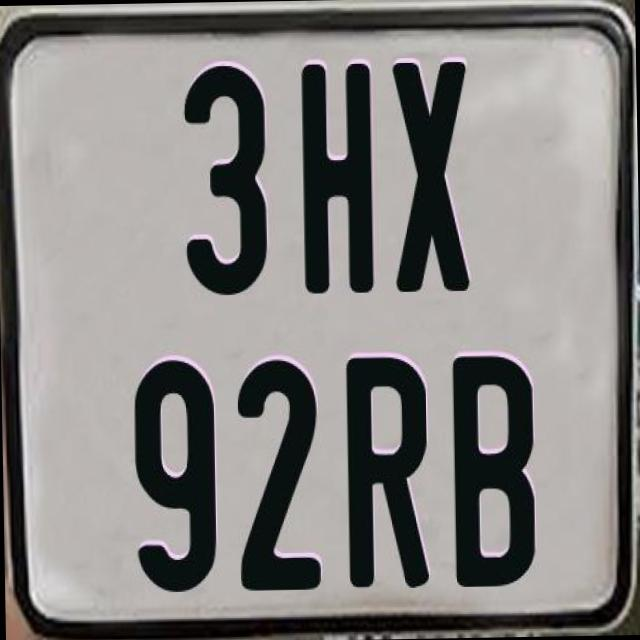2: (237, 355, 321, 588)
3: (178, 63, 266, 295)
9: (128, 359, 216, 595)
B: (451, 350, 538, 583)
H: (300, 58, 374, 290)
R: (344, 356, 432, 596)
X: (389, 56, 469, 290)
